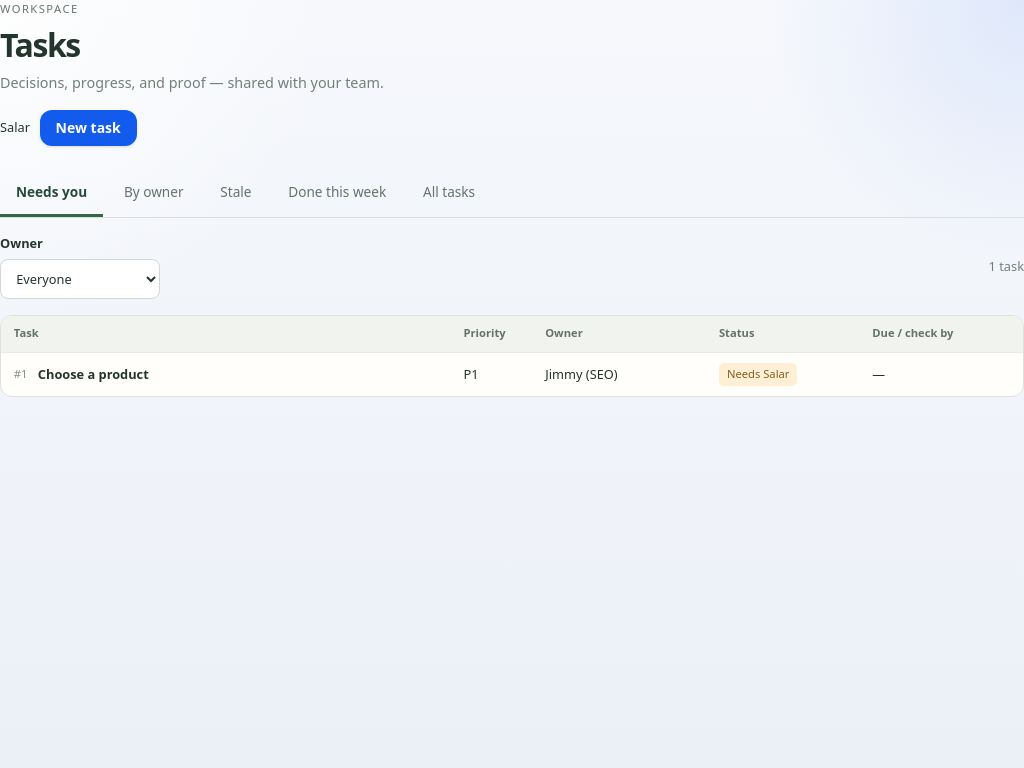
Test: opens compact rows in a detail dialog and closes back to the list
Expected: the table is shown, [1, 316, 1023, 396]
Click the button with aria-label "Open task #1: Choose a product". click: x=93, y=374
box: [14, 362, 438, 386]
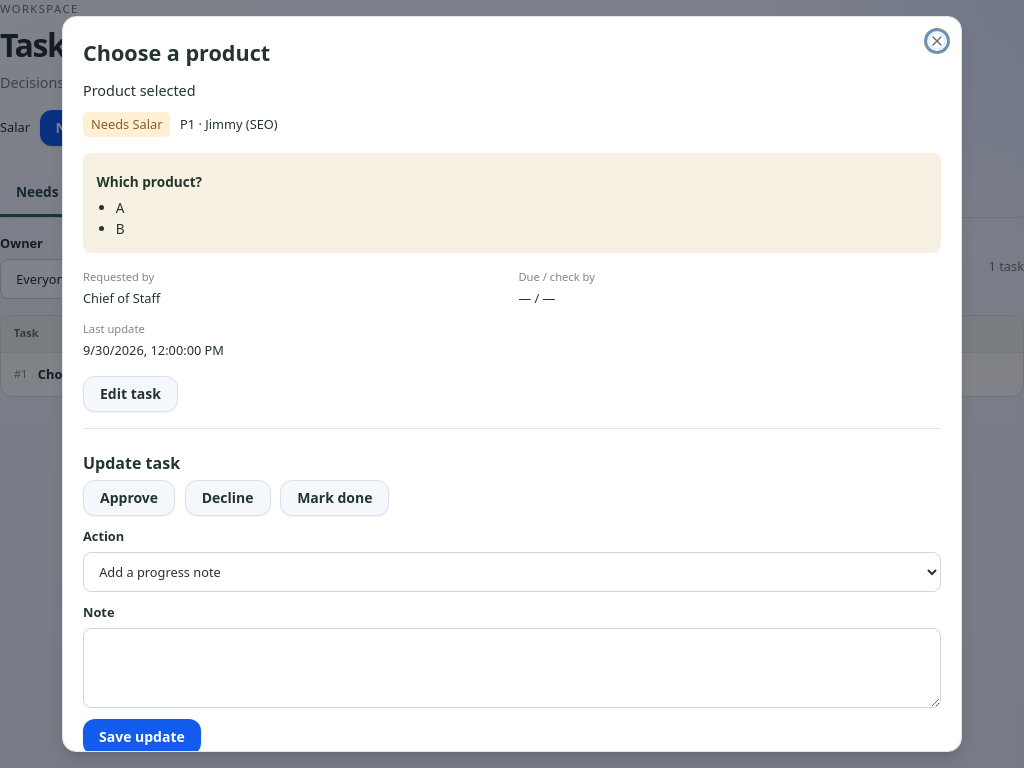
Now the dialog "Task #1" is shown
Now the text "Product selected" is shown, box [83, 81, 196, 100]
Click the button named "Close". click: x=937, y=41
box: [929, 33, 945, 49]
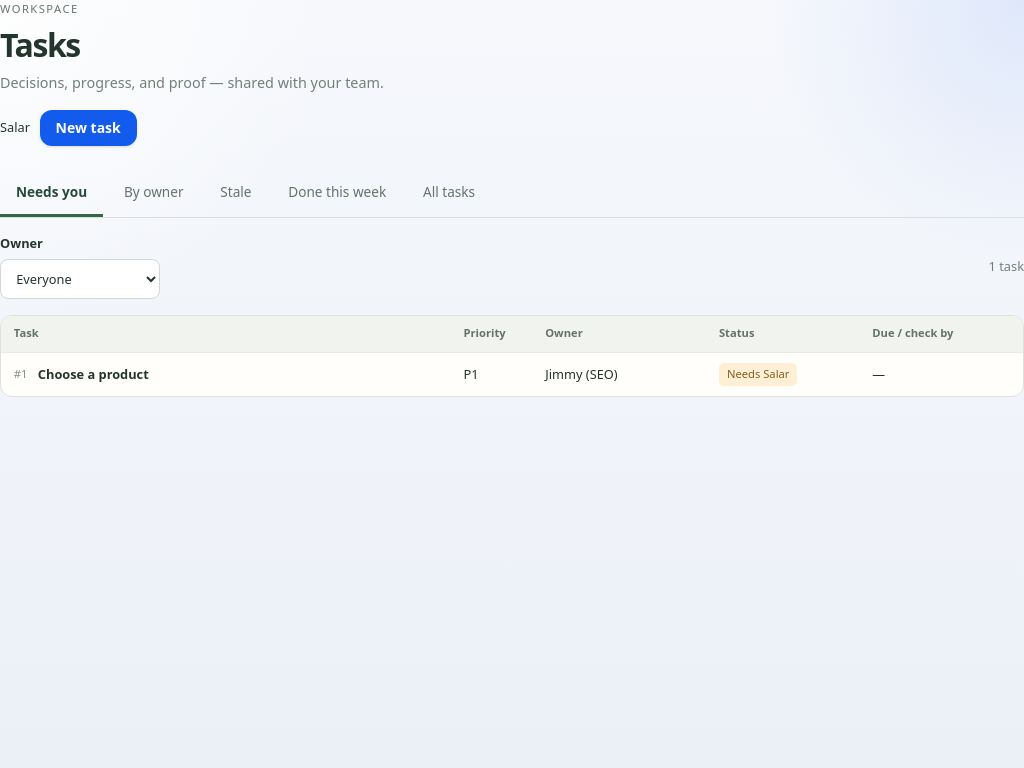
Now the dialog is gone
